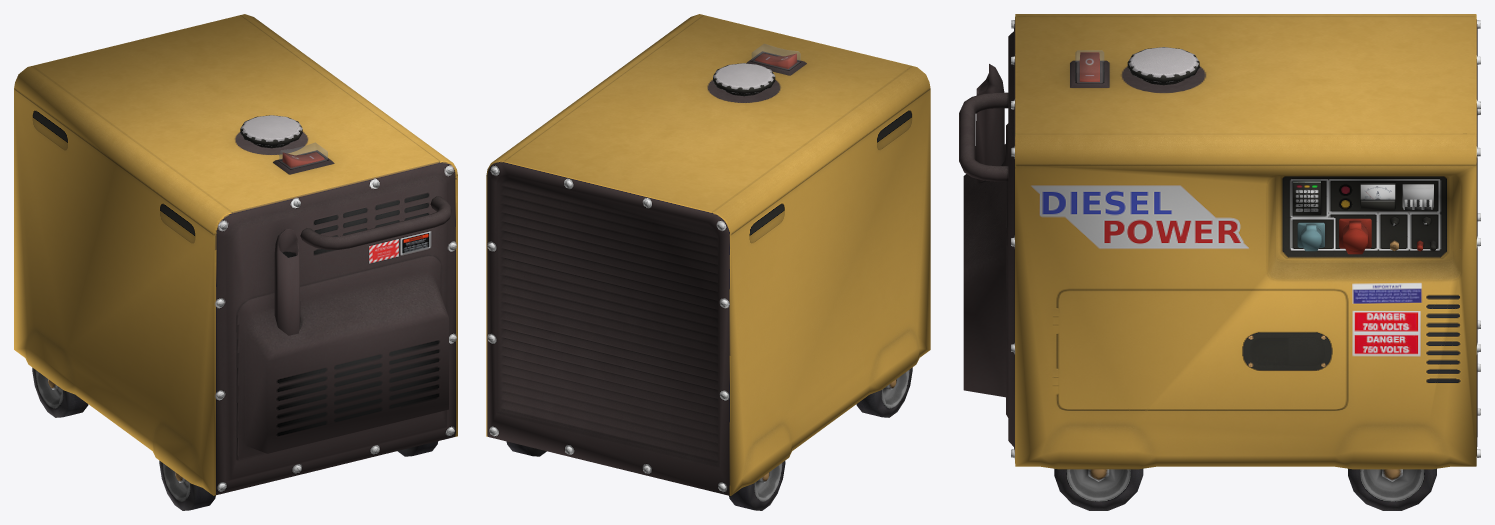
The model's file is generator.dae.
The picture shows the model from 3 angles, left to right: view 1: azimuth 30°, elevation 25°; view 2: azimuth 150°, elevation 25°; view 3: azimuth 270°, elevation 25°; orthographic projection. The views are drawn at different scales.
Visible parts, largest first — view 1: Generator; view 2: Generator; view 3: Generator.
Boxes of the visible parts, x1,y1,x2,y2 form: Generator: (14, 14, 457, 510); Generator: (486, 14, 930, 510); Generator: (959, 14, 1480, 510).
Size of the model in its own units: 1.87 by 2.89 by 2.34.
